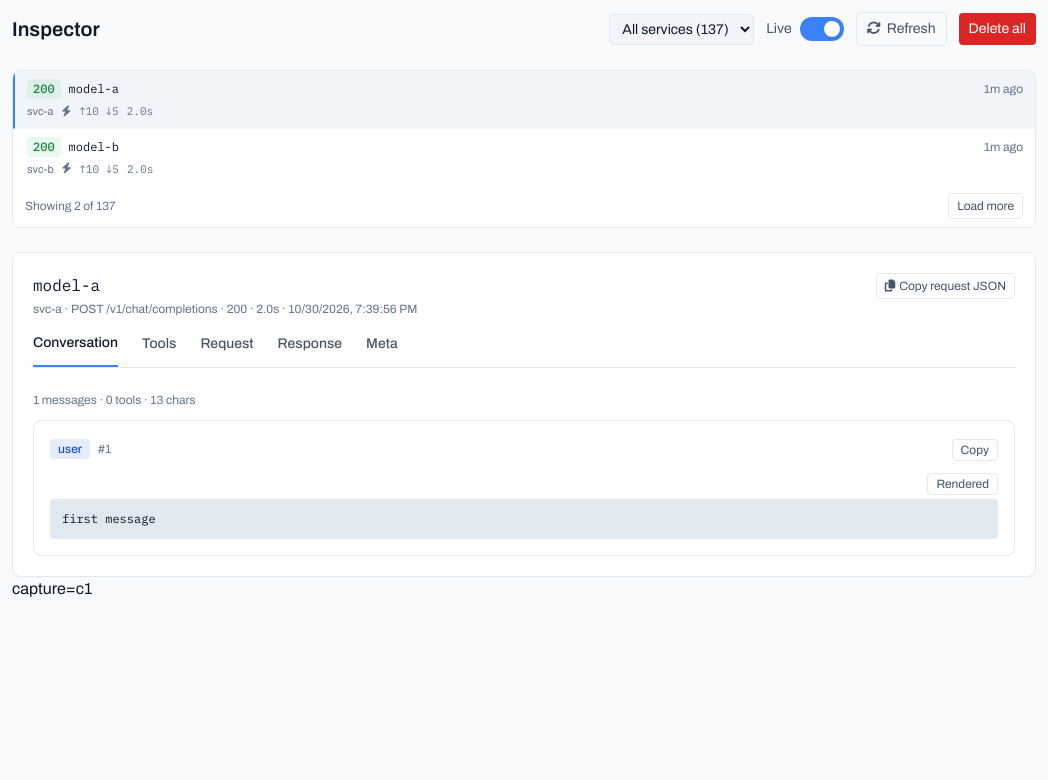
it: InspectorPage url state › changing the filter rewrites the query and drops the capture
expect the text "first message" is shown: met, box x1=50 y1=499 x2=998 y2=539
Select "svc-b (1)" in the dropdown at (682, 29), box x1=609 y1=14 x2=754 y2=44
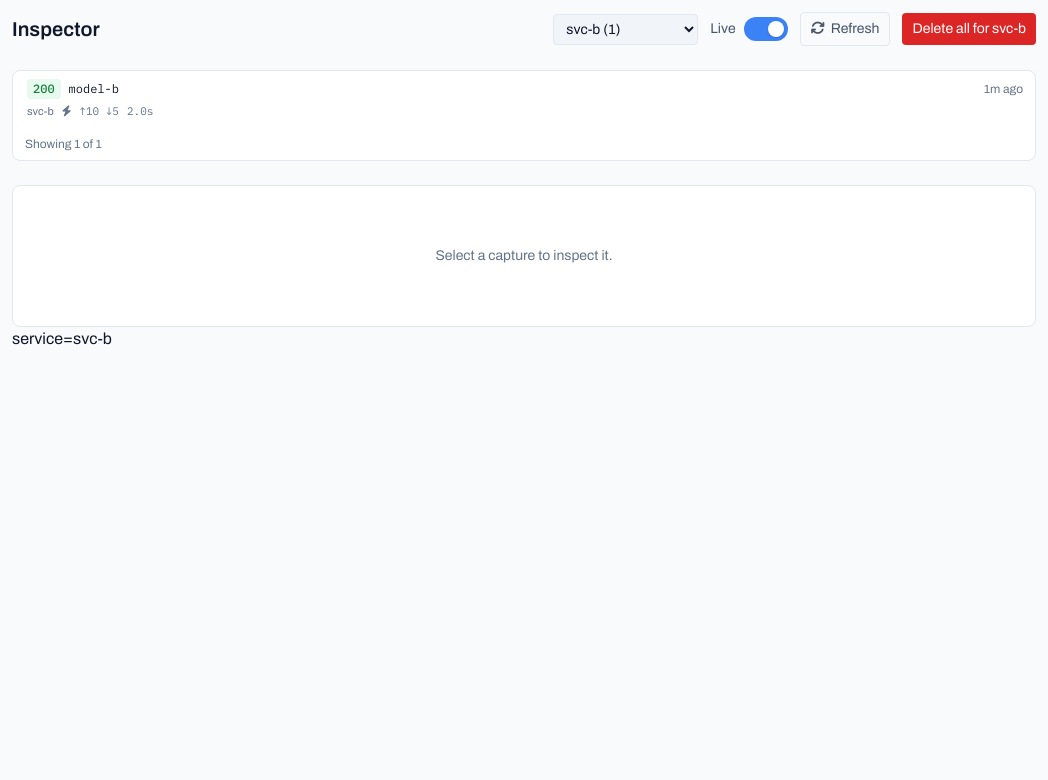
expect the text with test id "probe" reads "service=svc-b": met, box x1=12 y1=330 x2=112 y2=346
